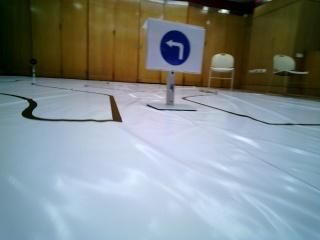left: (152, 23, 202, 70)
